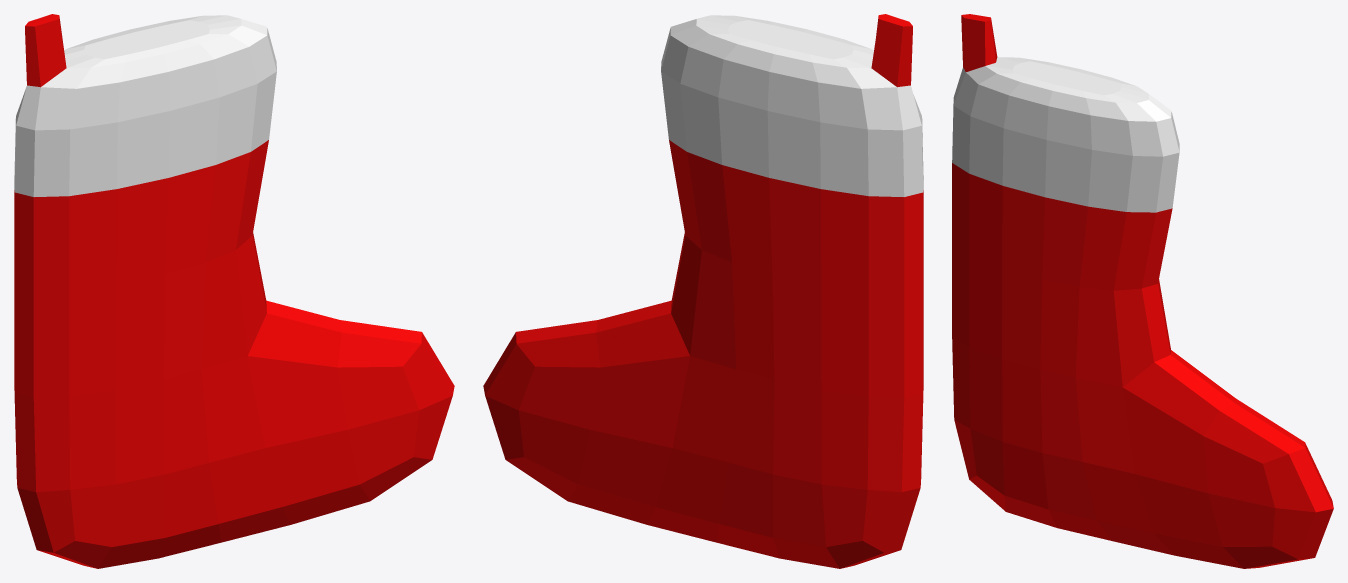
The model's file is Sock ta Fran FU.fbx.
3 renders of one model, left to right at view 1: azimuth 30°, elevation 25°; view 2: azimuth 150°, elevation 25°; view 3: azimuth 330°, elevation 25°, orthographic. The views are drawn at different scales.
Parts seen in each view (by area): view 1: Sock; view 2: Sock; view 3: Sock.
Part boxes in pixels (x1,y1,x2,y2): Sock: (14, 14, 454, 568); Sock: (483, 14, 923, 568); Sock: (952, 14, 1333, 568).
Bounding box in the file's own units: 56.08 × 68.22 × 10.47.
